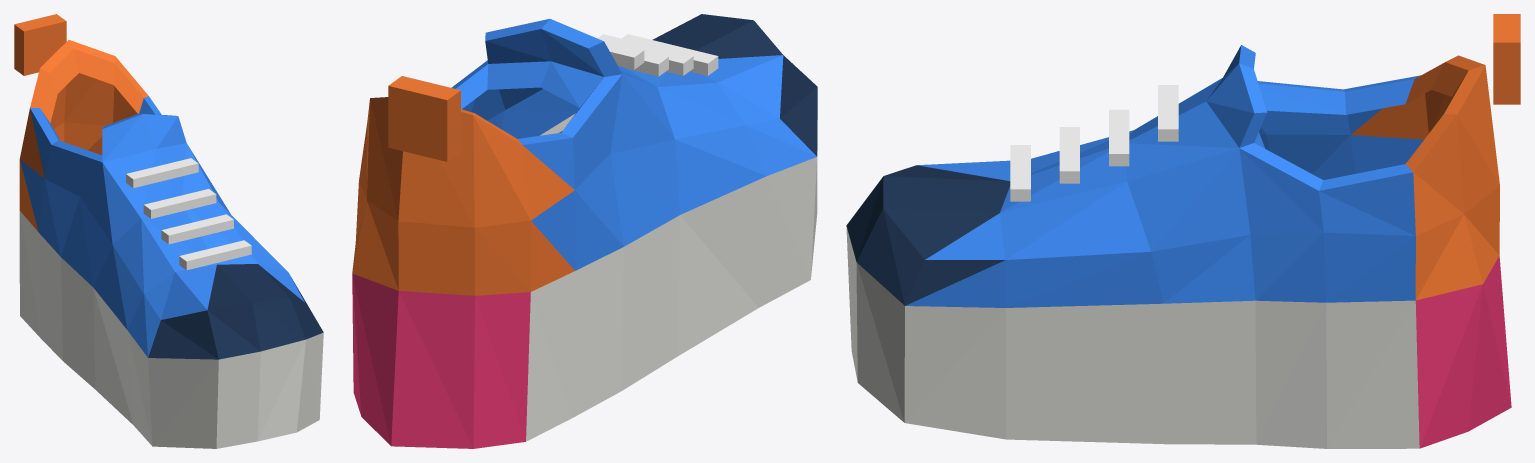
The model's file is street_runner.glb.
3 renders of one model, left to right at view 1: azimuth 30°, elevation 25°; view 2: azimuth 150°, elevation 25°; view 3: azimuth 270°, elevation 25°, orthographic. The views are drawn at different scales.
Visible parts, largest first — view 1: street_runner; view 2: street_runner; view 3: street_runner.
Part boxes in pixels (<box>): street_runner: <box>14,14,323,448</box>; street_runner: <box>352,14,817,448</box>; street_runner: <box>846,14,1520,448</box>.
Size of the model in its own units: 0.12 by 0.1833 by 0.2967.
